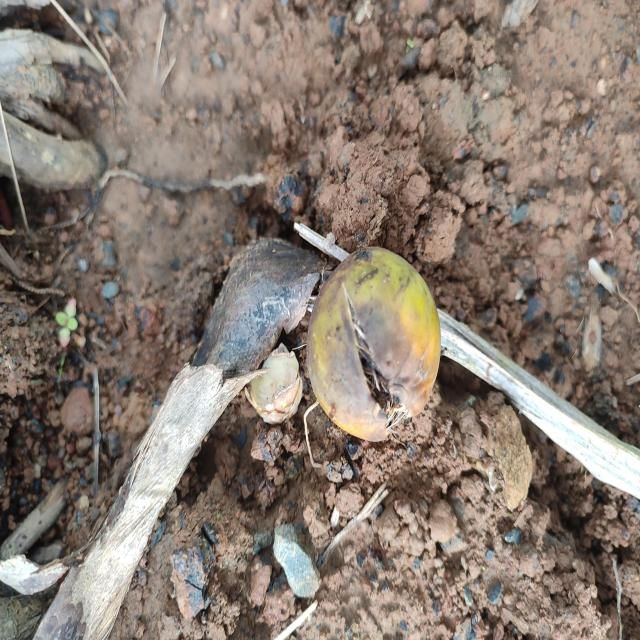damaged: (306, 247, 440, 442)
